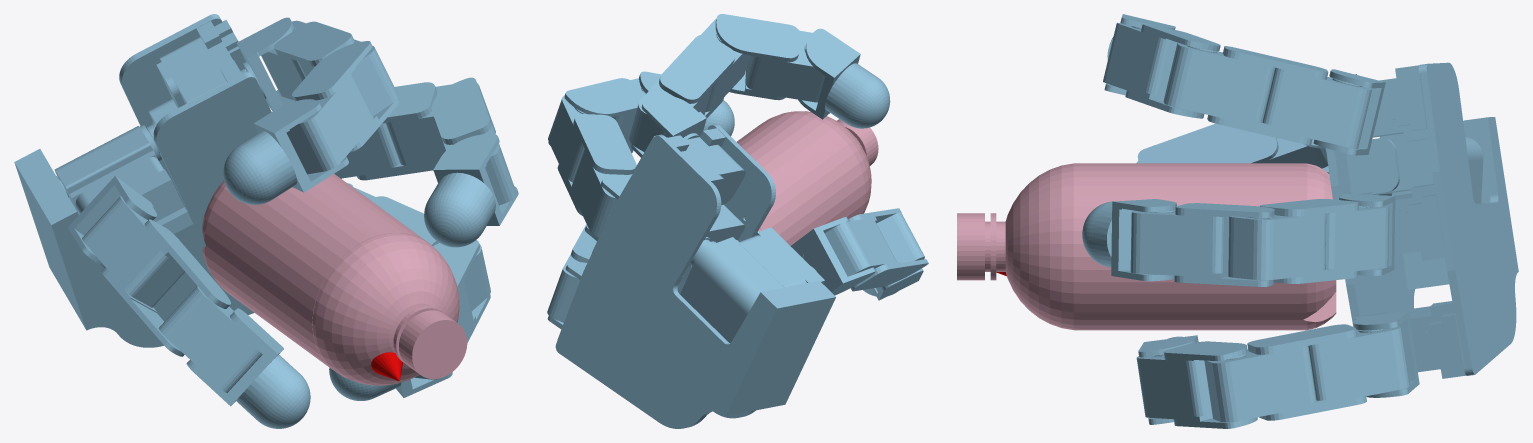
The picture shows the model from 3 angles, left to right: view 1: azimuth 30°, elevation 25°; view 2: azimuth 150°, elevation 25°; view 3: azimuth 270°, elevation 25°; orthographic projection. The views are drawn at different scales.
Parts seen in each view (by area): view 1: world, water_bottle.stl; view 2: world, water_bottle.stl; view 3: world, water_bottle.stl.
Boxes of the visible parts, left/top/right/bottom form: world: left=14, top=14, right=518, bottom=428; water_bottle.stl: left=202, top=174, right=467, bottom=385; world: left=547, top=14, right=928, bottom=428; water_bottle.stl: left=737, top=111, right=878, bottom=245; world: left=996, top=14, right=1518, bottom=428; water_bottle.stl: left=957, top=163, right=1336, bottom=330.
Bounding box in the file's own units: 0.1705 × 0.1472 × 0.2022.
